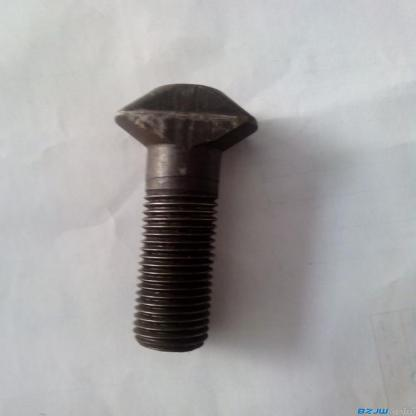FOD: (108, 81, 266, 353)
